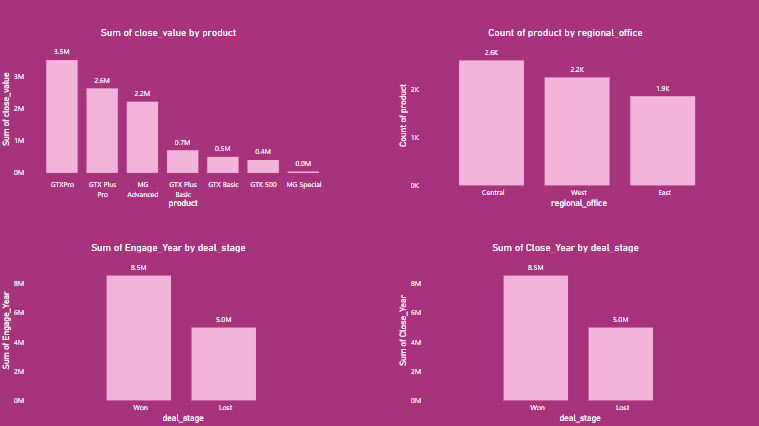

This screenshot's page, from the dashboard's own definition file:
{"tool":"powerbi","page":{"name":"Page 3","canvas":[1280,720],"ordinal":2},"visuals":[{"type":"columnChart","fields":{"Category":["sales_pipeline.product"],"Y":["Sum(sales_pipeline.close_value)"]},"box":[0,48.7,572.8,310.8],"z":0},{"type":"columnChart","fields":{"Y":["CountNonNull(sales_pipeline.product)"],"Category":["sales_teams.regional_office"]},"box":[666.9,48.7,572.8,310.8],"z":1},{"type":"columnChart","fields":{"Y":["Sum(sales_pipeline.Close_Year)"],"Category":["sales_pipeline.deal_stage"]},"box":[666.9,409.9,572.8,310.8],"z":2},{"type":"columnChart","fields":{"Category":["sales_pipeline.deal_stage"],"Y":["Sum(sales_pipeline.Engage_Year)"]},"box":[0,409.9,572.8,310.8],"z":3}]}

Visuals, with their boxes in screenshot pixels (x1, y1, x2, y2), scaled from the page's 1280x720 canvas onto the 759x426 screenshot:
columnChart - sales_pipeline.product x Sum(sales_pipeline.close_value): bbox=(0, 29, 340, 213)
columnChart - CountNonNull(sales_pipeline.product) x sales_teams.regional_office: bbox=(395, 29, 735, 213)
columnChart - Sum(sales_pipeline.Close_Year) x sales_pipeline.deal_stage: bbox=(395, 243, 735, 425)
columnChart - sales_pipeline.deal_stage x Sum(sales_pipeline.Engage_Year): bbox=(0, 243, 340, 425)
